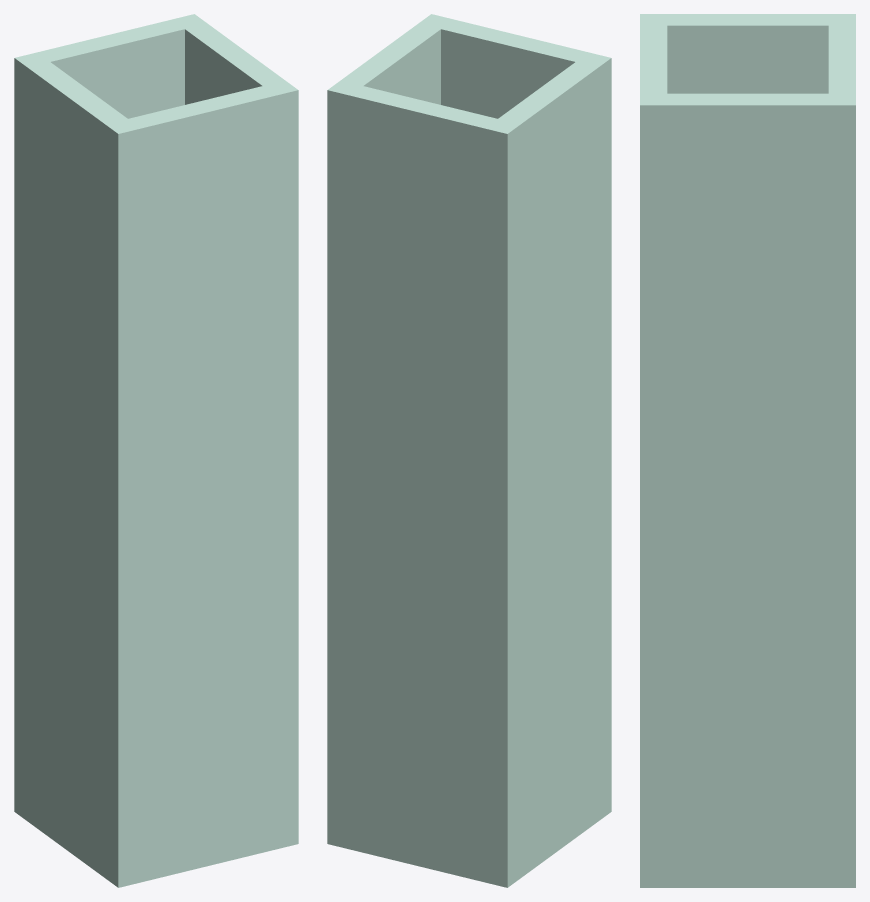
The picture shows the model from 3 angles, left to right: view 1: azimuth 30°, elevation 25°; view 2: azimuth 150°, elevation 25°; view 3: azimuth 270°, elevation 25°; orthographic projection. The views are drawn at different scales.
Visible parts, largest first — view 1: Renderer Node; view 2: Renderer Node; view 3: Renderer Node.
Boxes of the visible parts, bbox=[...] form: Renderer Node: bbox=[14, 14, 298, 887]; Renderer Node: bbox=[327, 14, 611, 887]; Renderer Node: bbox=[640, 14, 855, 887].
Bounding box in the file's own units: 0.375 × 1.5 × 0.375.
